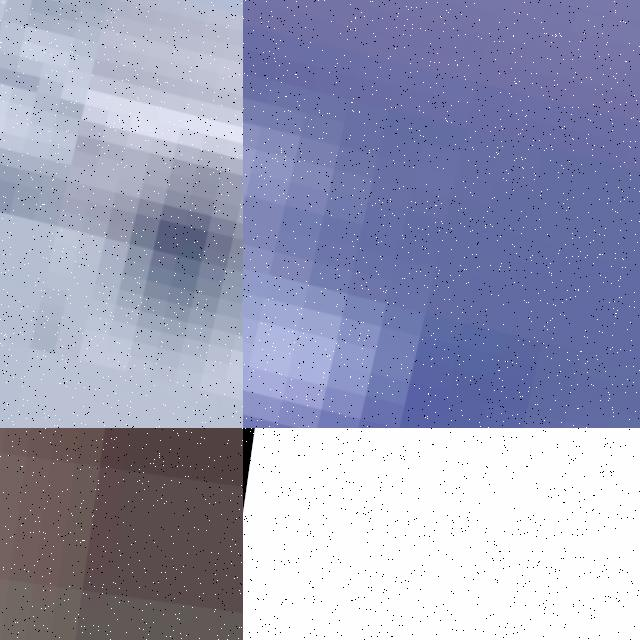0: (0, 0, 243, 428)
drone: (243, 0, 640, 428)
